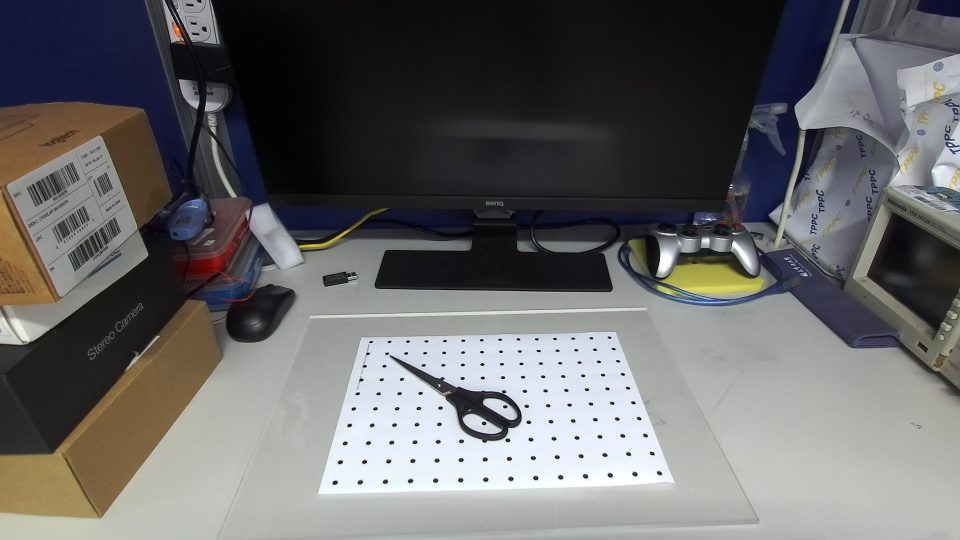blade: (388, 354, 457, 394)
round_grasp: (445, 386, 522, 441)
